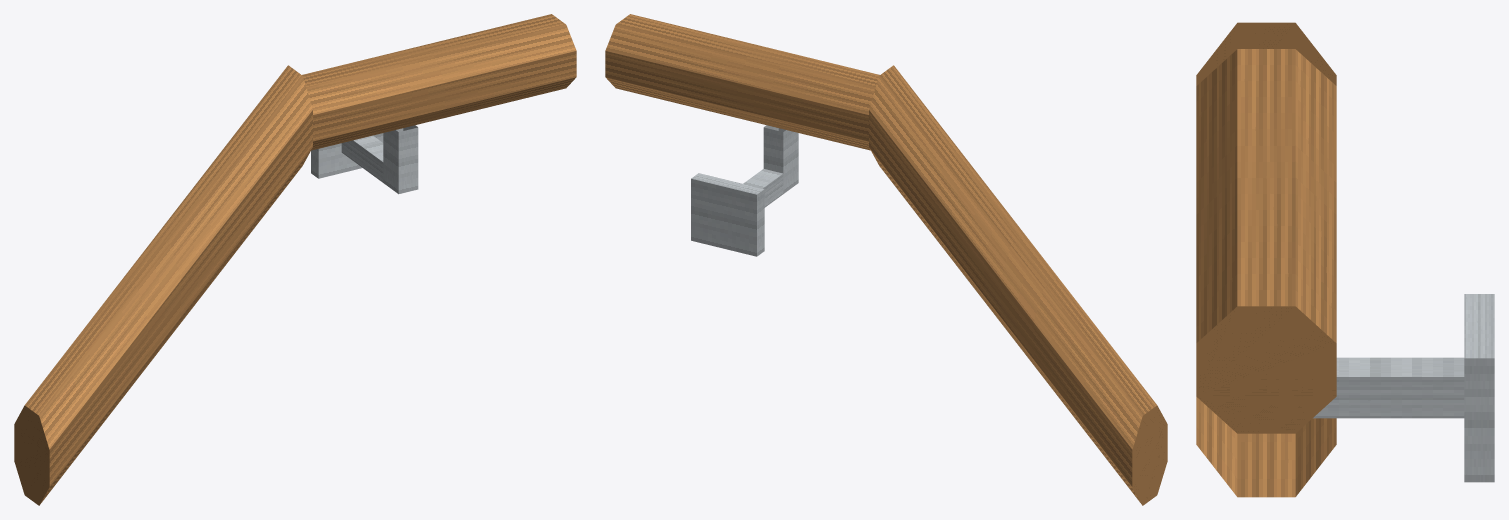
File: top_pos.obj
3 renders of one model, left to right at view 1: azimuth 30°, elevation 25°; view 2: azimuth 150°, elevation 25°; view 3: azimuth 270°, elevation 25°, orthographic. The views are drawn at different scales.
Parts seen in each view (by area): view 1: handrail_wall_oak_round_top_pos; view 2: handrail_wall_oak_round_top_pos; view 3: handrail_wall_oak_round_top_pos.
Part boxes in pixels (x1,y1,x2,y2): handrail_wall_oak_round_top_pos: (14,14,576,505); handrail_wall_oak_round_top_pos: (605,14,1167,505); handrail_wall_oak_round_top_pos: (1196,22,1494,497).
Size of the model in its own units: 1 by 0.6633 by 0.2452.
